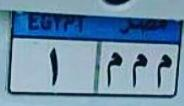1: (50, 47, 58, 88)
meem: (151, 53, 174, 89), (104, 52, 125, 88), (127, 53, 148, 88)
